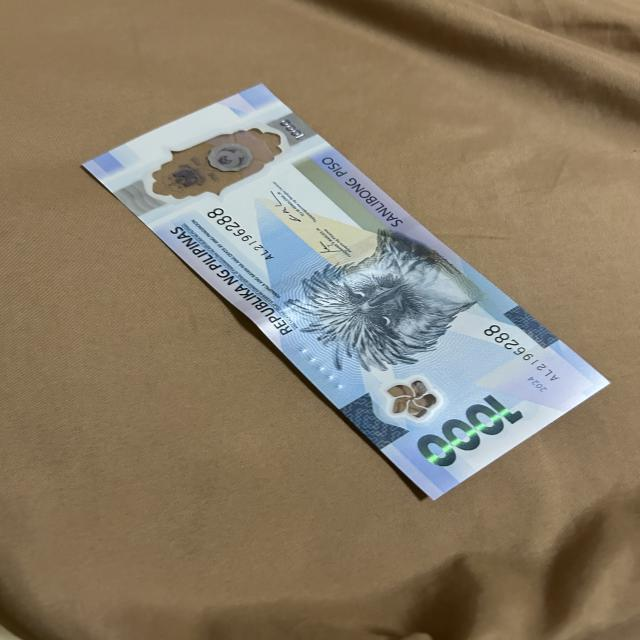clear_window: (144, 124, 285, 198)
eagle: (306, 233, 462, 360)
sampaguita: (383, 378, 438, 426)
